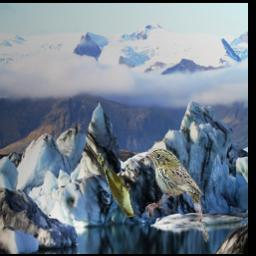Cuckoo: (98, 154, 135, 218)
Sparrow: (146, 148, 211, 242)
